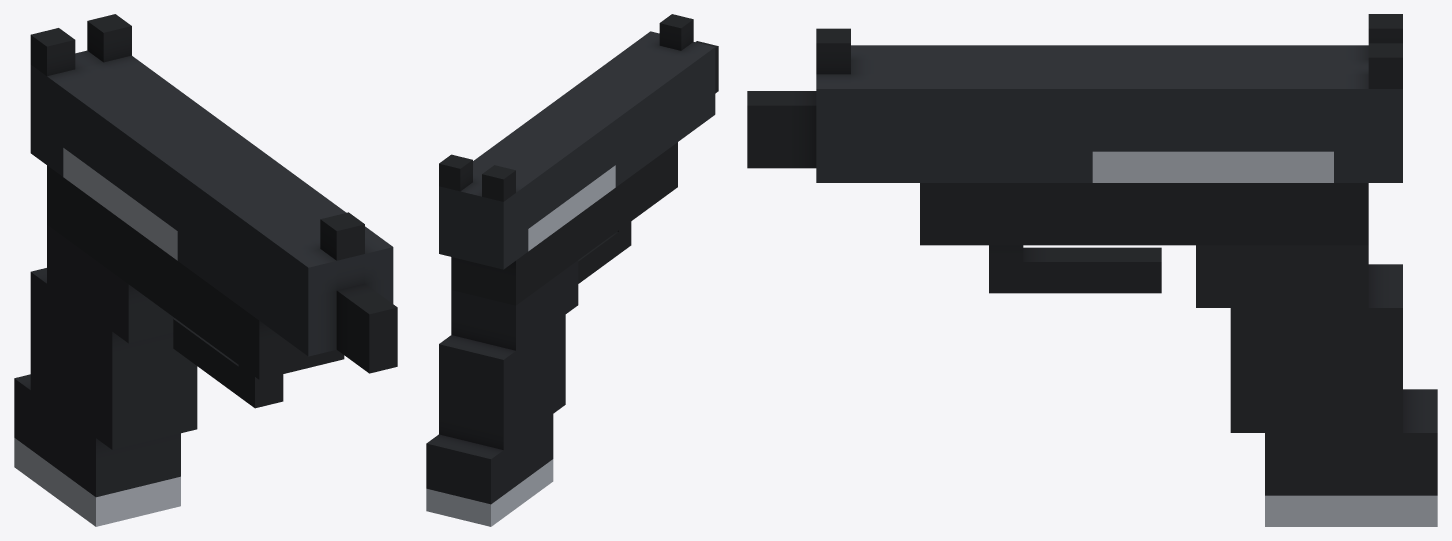
The model's file is plinker_common.glb.
3 renders of one model, left to right at view 1: azimuth 30°, elevation 25°; view 2: azimuth 150°, elevation 25°; view 3: azimuth 270°, elevation 25°, orthographic. The views are drawn at different scales.
Visible parts, largest first — view 1: plinker_common_body; view 2: plinker_common_body; view 3: plinker_common_body.
Boxes of the visible parts, <box> form: plinker_common_body: <box>14,14,397,526</box>; plinker_common_body: <box>426,14,718,526</box>; plinker_common_body: <box>747,14,1437,526</box>.
Size of the model in its own units: 0.1172 by 0.5859 by 0.7812.
1 material, 1 textured.
